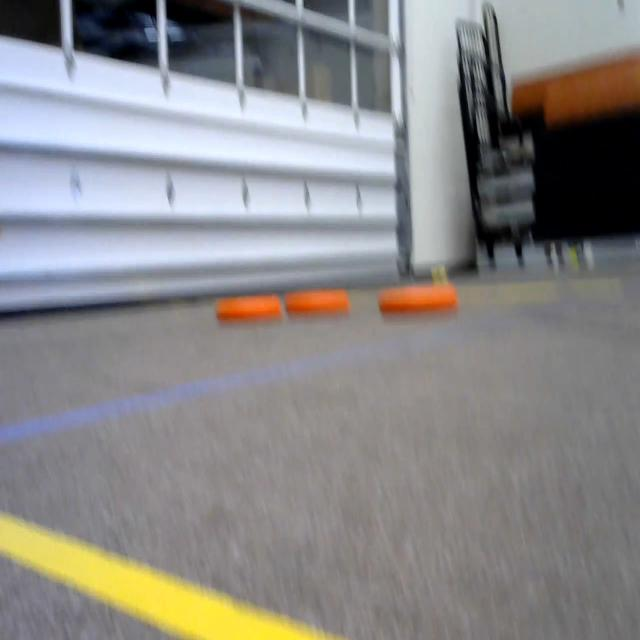note: (378, 276, 460, 316), (210, 286, 285, 325), (282, 285, 352, 322)
